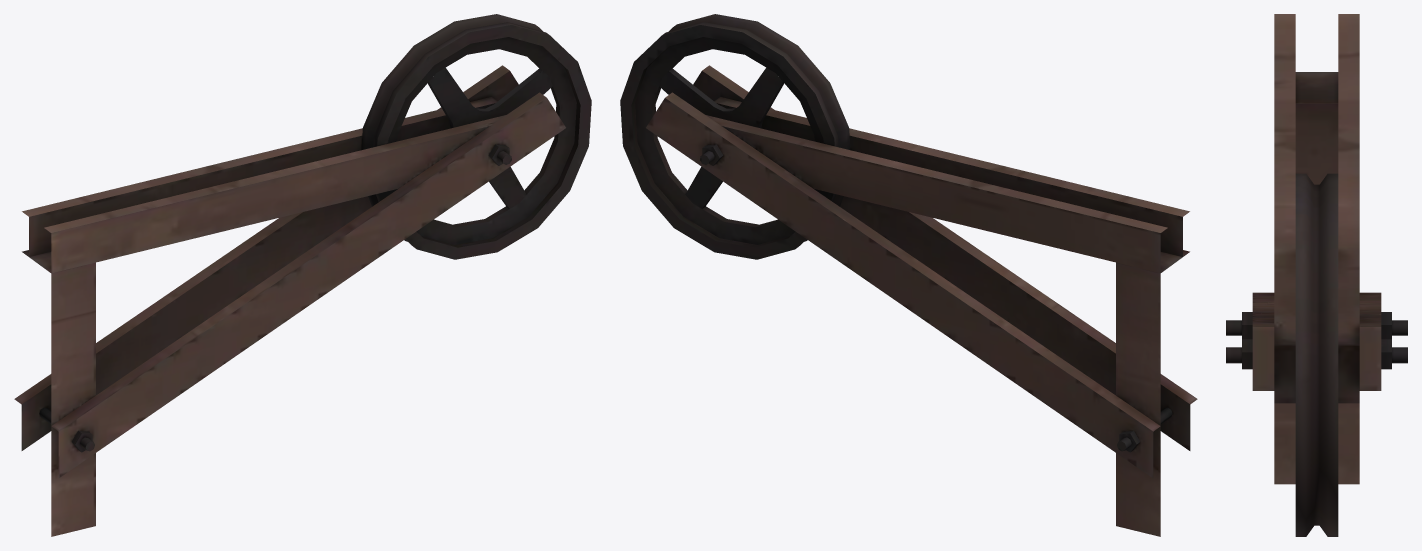
The picture shows the model from 3 angles, left to right: view 1: azimuth 30°, elevation 25°; view 2: azimuth 150°, elevation 25°; view 3: azimuth 270°, elevation 25°; orthographic projection. The views are drawn at different scales.
Visible parts, largest first — view 1: body0_model0_lod0_mesh0; view 2: body0_model0_lod0_mesh0; view 3: body0_model0_lod0_mesh0.
Boxes of the visible parts, bbox=[...] form: body0_model0_lod0_mesh0: bbox=[14, 14, 591, 536]; body0_model0_lod0_mesh0: bbox=[620, 14, 1197, 536]; body0_model0_lod0_mesh0: bbox=[1226, 14, 1407, 536].
Bounding box in the file's own units: 111 × 76.57 × 22.09.
Materials: 1 (1 with a texture image).
